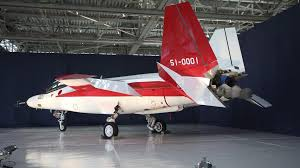fighter: (24, 1, 271, 137)
